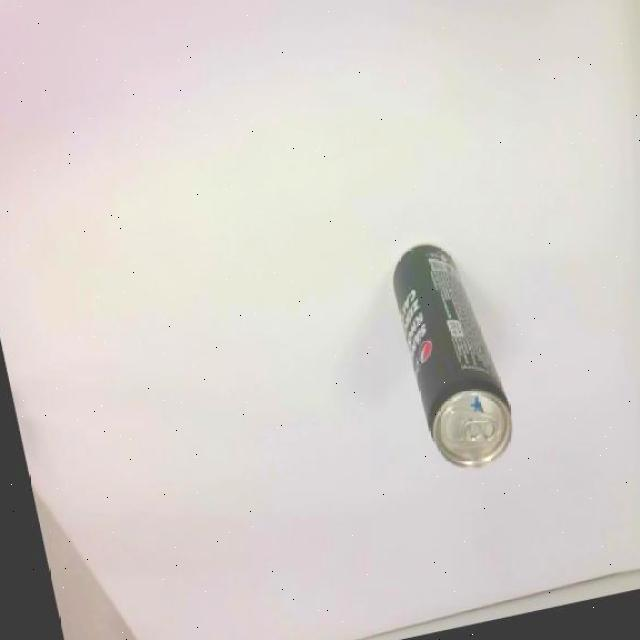debris: (385, 232, 522, 478)
